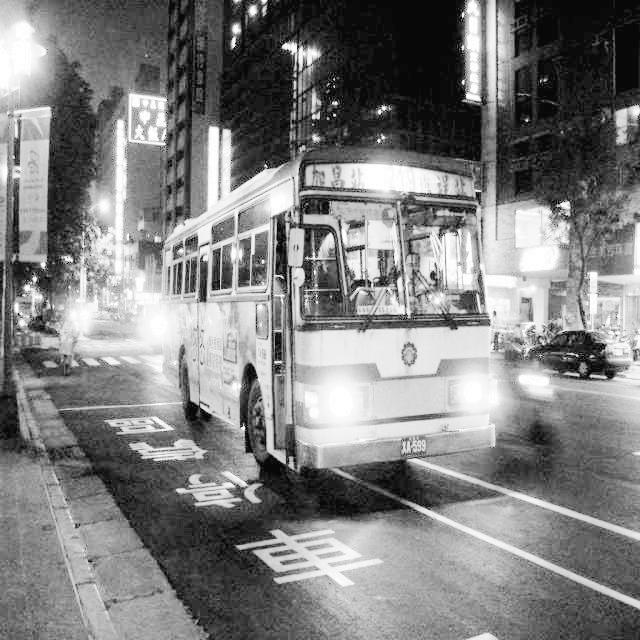Bus: (167, 146, 517, 494)
Car: (541, 307, 640, 397)
